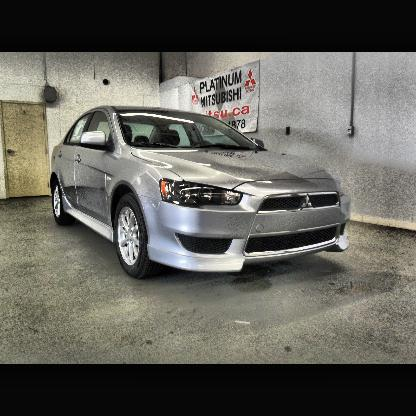Mitsubishi Lancer Sedan 2012: (51, 107, 351, 280)
